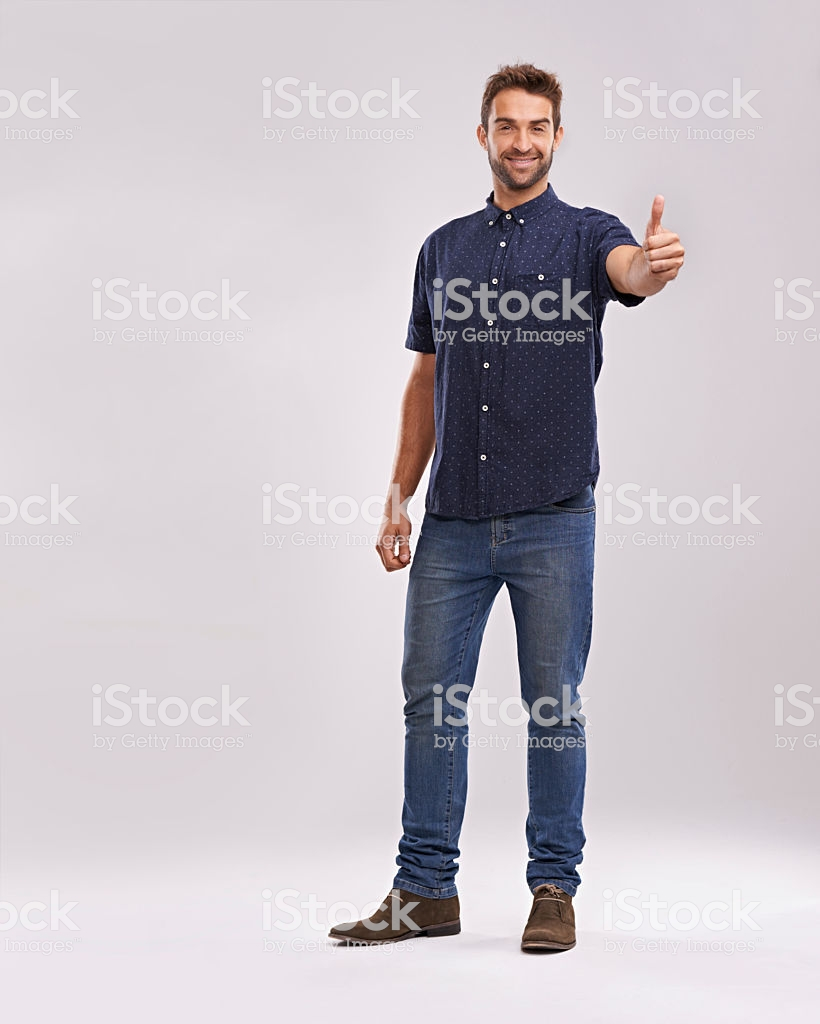thumbsup: (642, 193, 686, 283)
